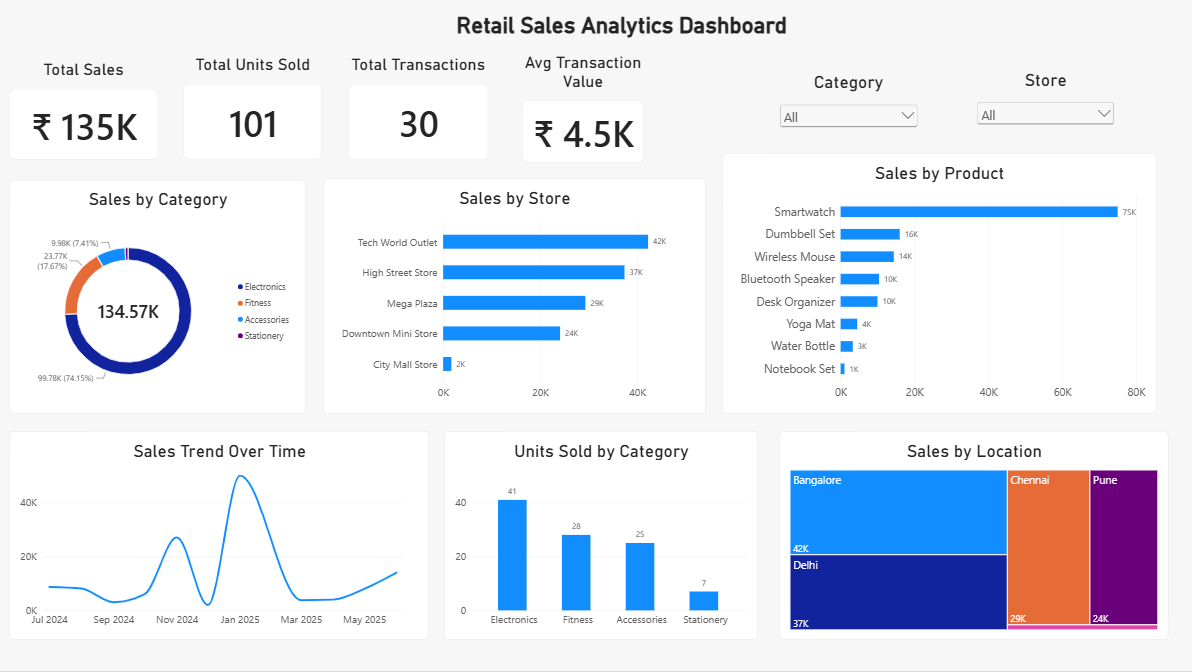

What the dashboard file says about the page in this screenshot:
{"tool":"powerbi","page":{"name":"Page 1","canvas":[1920,1080],"ordinal":0},"visuals":[{"type":"cardVisual","title":"Total Sales","fields":{"Data":["Sum(retail_gold_sales_summary.total_sales_amount)"]},"box":[19.9,101.3,237.1,161.1],"z":0},{"type":"cardVisual","title":"Total Units Sold","fields":{"Data":["Sum(retail_gold_sales_summary.total_quantity_sold)"]},"box":[298.6,94.1,222.6,168.3],"z":1000},{"type":"cardVisual","title":"Total Transactions","fields":{"Data":["Sum(retail_gold_sales_summary.number_of_transactions)"]},"box":[562.8,94.1,224.4,168.3],"z":2000},{"type":"cardVisual","title":"Avg Transaction Value","fields":{"Data":["retail_gold_sales_summary.Avg Transaction Value"]},"box":[839.7,90.5,195.4,177.3],"z":3000},{"type":"lineChart","title":"Sales Trend Over Time","fields":{"Y":["Sum(retail_gold_sales_summary.total_sales_amount)"],"Category":["retail_gold_sales_summary.transaction_date.Variation.Date Hierarchy.Year","retail_gold_sales_summary.transaction_date.Variation.Date Hierarchy.Quarter","retail_gold_sales_summary.transaction_date.Variation.Date Hierarchy.Month","retail_gold_sales_summary.transaction_date.Variation.Date Hierarchy.Day"]},"box":[19.9,696.7,671.4,334.8],"z":4000},{"type":"clusteredBarChart","title":"Sales by Product","fields":{"Y":["Sum(retail_gold_sales_summary.total_sales_amount)"],"Category":["retail_gold_sales_summary.product_name"]},"box":[1160,251.5,694.9,416.2],"z":5000},{"type":"donutChart","title":"Sales by Category","fields":{"Category":["retail_gold_sales_summary.category"],"Y":["Sum(retail_gold_sales_summary.total_sales_amount)"]},"box":[19.9,293.2,474.1,374.6],"z":6000},{"type":"clusteredBarChart","title":"Sales by Store","fields":{"Y":["Sum(retail_gold_sales_summary.total_sales_amount)"],"Category":["retail_gold_sales_summary.store_name"]},"box":[521.2,291.4,611.7,376.4],"z":7000},{"type":"slicer","title":"Category","fields":{"Values":["retail_gold_sales_summary.category"]},"box":[1248.7,121.2,229.8,130.3],"z":8000},{"type":"slicer","title":"Store","fields":{"Values":["retail_gold_sales_summary.store_name"]},"box":[1563.5,117.6,228,105],"z":9000},{"type":"textbox","title":"Retail Sales Analytics Dashboard","box":[691.3,30.8,613.5,52.5],"z":10000},{"type":"clusteredColumnChart","title":"Units Sold by Category","fields":{"Category":["retail_gold_sales_summary.category"],"Y":["Sum(retail_gold_sales_summary.total_quantity_sold)"]},"box":[716.6,696.7,501.3,334.8],"z":10001},{"type":"treemap","title":"Sales by Location","fields":{"Values":["Sum(retail_gold_sales_summary.total_sales_amount)"],"Group":["retail_gold_sales_summary.location"]},"box":[1252.3,696.7,622.5,334.8],"z":10002}]}

Visuals, with their boxes in screenshot pixels (x1, y1, x2, y2), scaled from the page's 1920x1080 canvas onto the 1192x672 screenshot:
"Total Sales" cardVisual: 12 63 160 163
"Total Units Sold" cardVisual: 185 59 324 163
"Total Transactions" cardVisual: 349 59 489 163
"Avg Transaction Value" cardVisual: 521 56 643 167
"Sales Trend Over Time" lineChart: 12 434 429 642
"Sales by Product" clusteredBarChart: 720 156 1152 415
"Sales by Category" donutChart: 12 182 307 416
"Sales by Store" clusteredBarChart: 324 181 703 416
"Category" slicer: 775 75 918 156
"Store" slicer: 971 73 1112 139
"Retail Sales Analytics Dashboard" textbox: 429 19 810 52
"Units Sold by Category" clusteredColumnChart: 445 434 756 642
"Sales by Location" treemap: 777 434 1164 642
